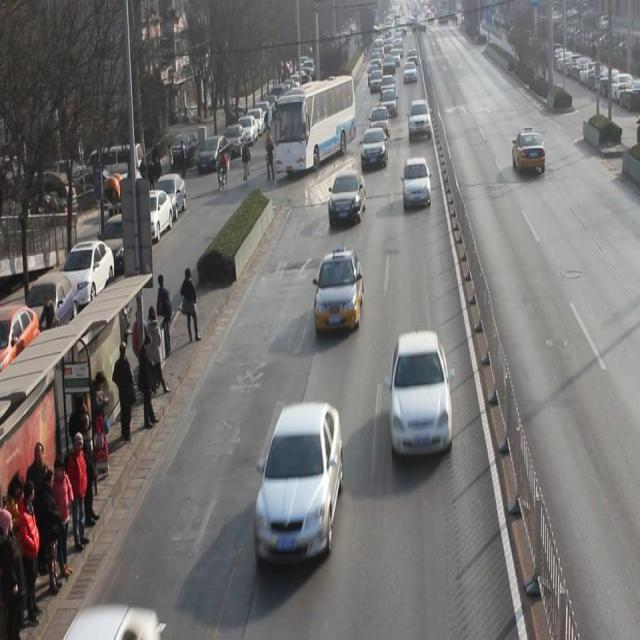car: (256, 399, 345, 568), (391, 332, 454, 457), (315, 250, 364, 332), (328, 170, 367, 228), (512, 130, 546, 176), (403, 158, 432, 210), (361, 128, 389, 172), (409, 99, 432, 142), (369, 106, 391, 141), (379, 90, 399, 120)
van: (276, 72, 356, 174)
